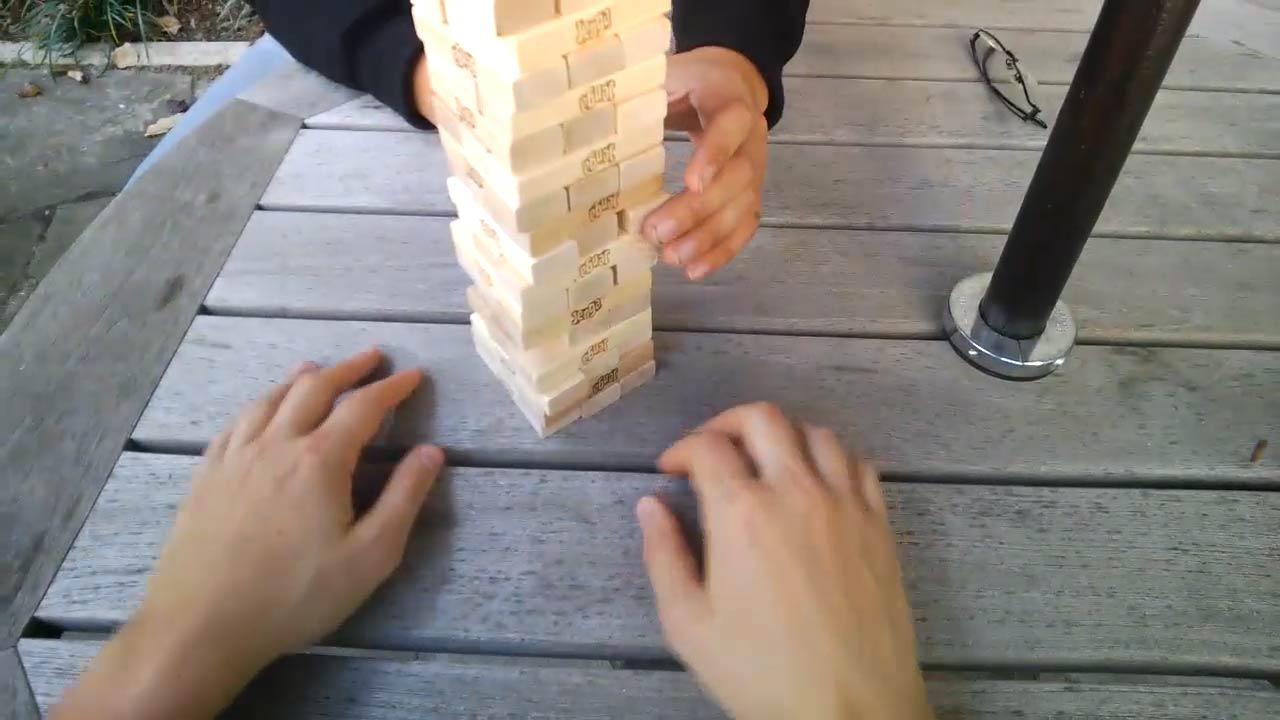hand: (162, 348, 445, 648), (629, 396, 929, 674), (640, 43, 770, 279)
